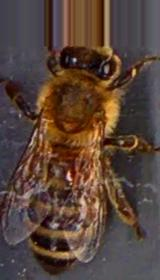varroa_mite: (62, 163, 88, 190)
